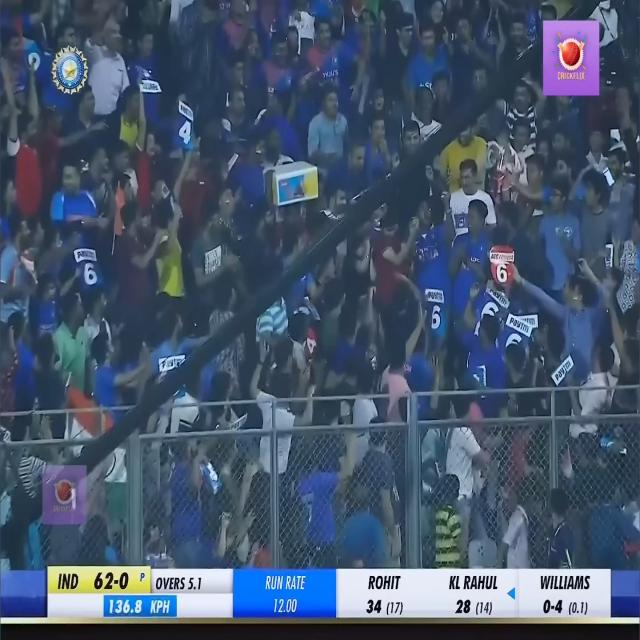fully_visible: (505, 312, 538, 335), (554, 354, 574, 384)
partially_visible: (158, 356, 184, 373), (427, 286, 445, 304), (74, 249, 97, 263)
